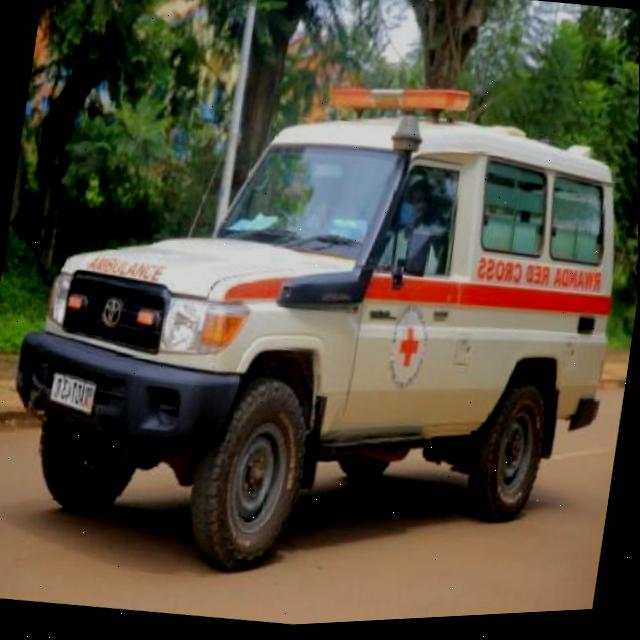emergency: (0, 29, 640, 631)
